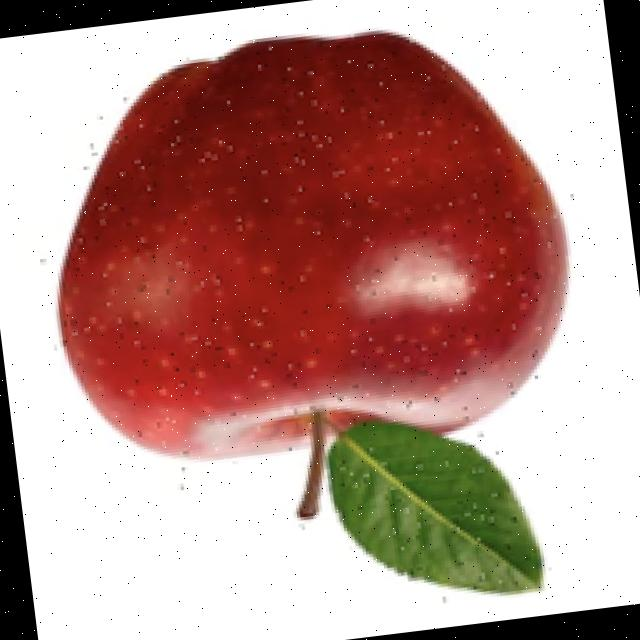apple: (51, 26, 576, 601)
